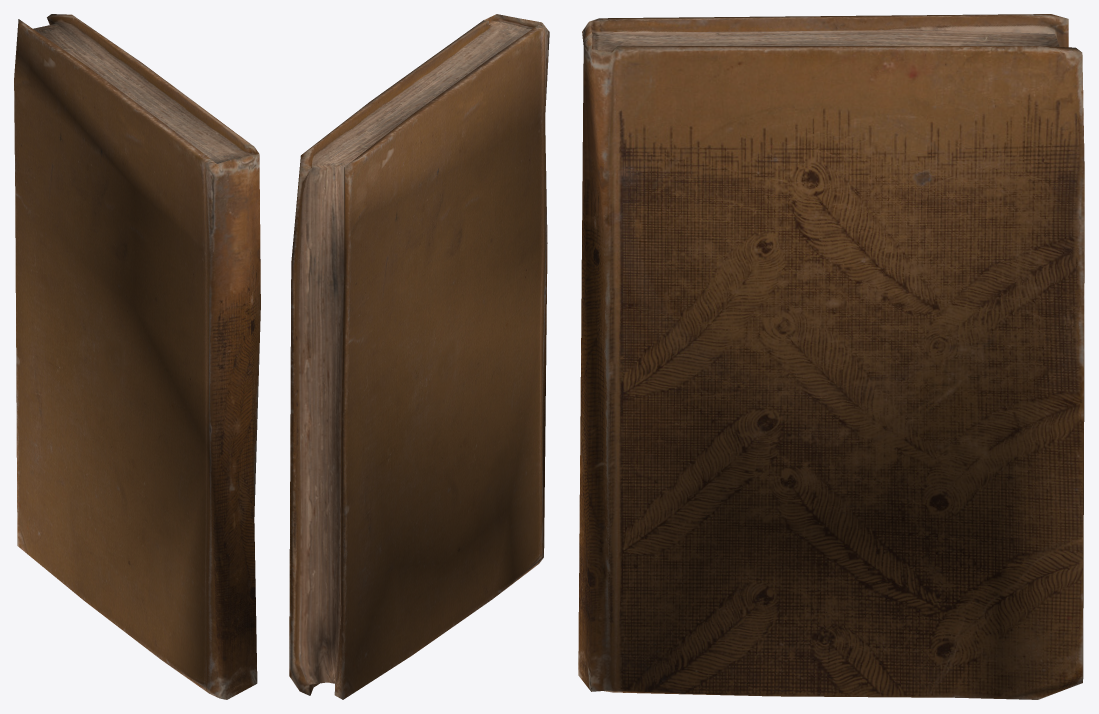
File: old_book_wldocam_low.glb
3 renders of one model, left to right at view 1: azimuth 30°, elevation 25°; view 2: azimuth 150°, elevation 25°; view 3: azimuth 270°, elevation 25°, orthographic. The views are drawn at different scales.
Visible parts, largest first — view 1: wldocam_LOD0_TIER3_000; view 2: wldocam_LOD0_TIER3_000; view 3: wldocam_LOD0_TIER3_000.
Part boxes in pixels (x1,y1,x2,y2): wldocam_LOD0_TIER3_000: (14,14,260,699); wldocam_LOD0_TIER3_000: (289,14,549,699); wldocam_LOD0_TIER3_000: (578,14,1084,699).
Bounding box in the file's own units: 0.0217 × 0.1914 × 0.1341.
1 material, 1 textured.
